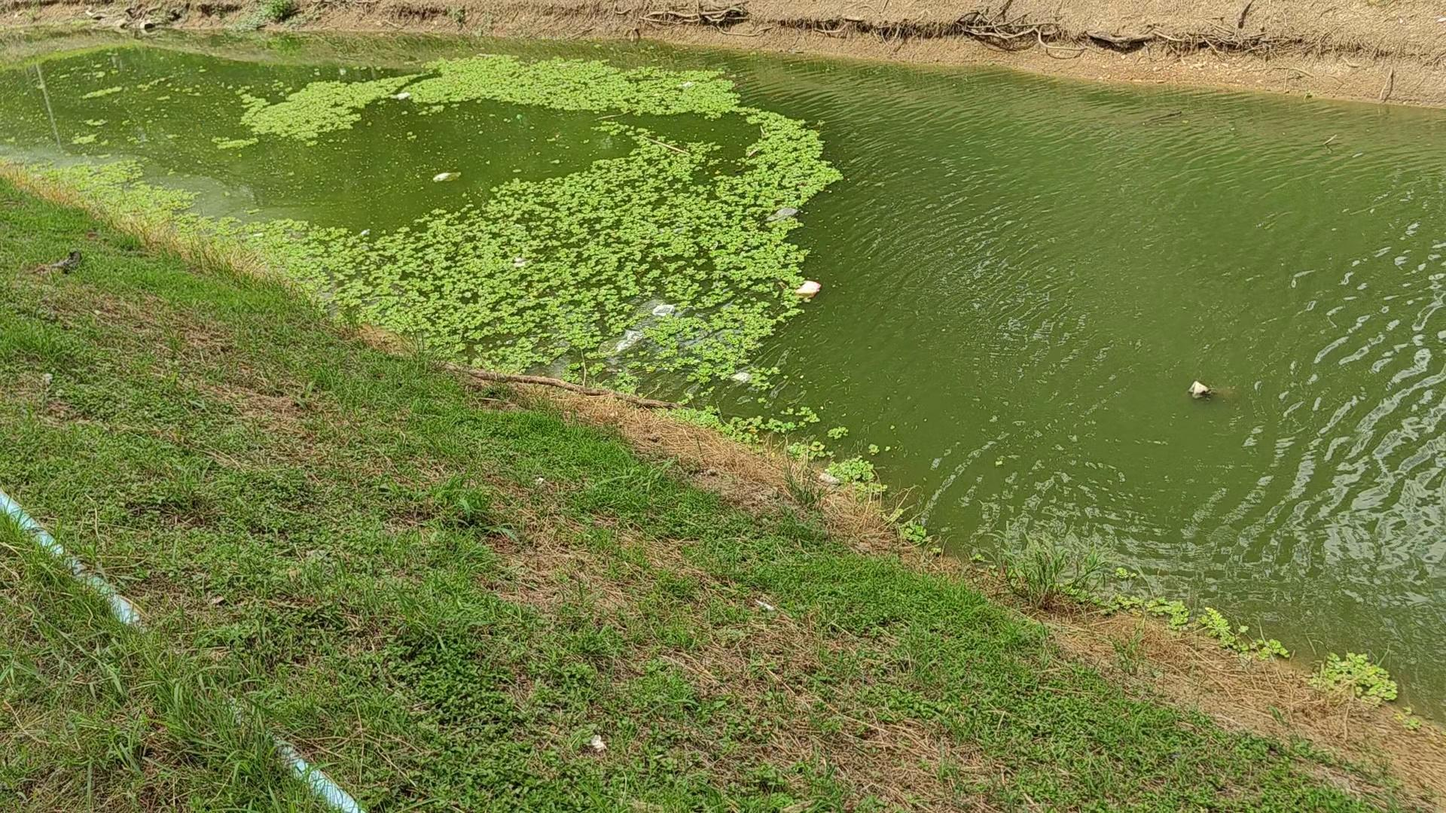trash: (615, 330, 642, 352), (795, 280, 821, 300), (768, 207, 798, 221), (1188, 380, 1210, 397), (653, 303, 676, 316), (433, 172, 459, 181), (731, 371, 751, 382), (392, 92, 410, 99), (681, 81, 694, 87)
